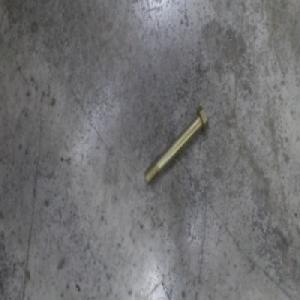Bolt: (143, 103, 209, 186)
